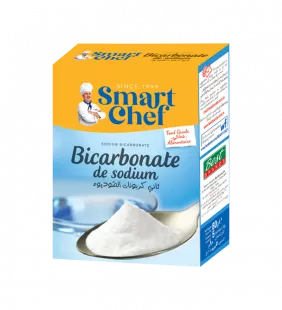Promotion: (44, 36, 237, 276)
